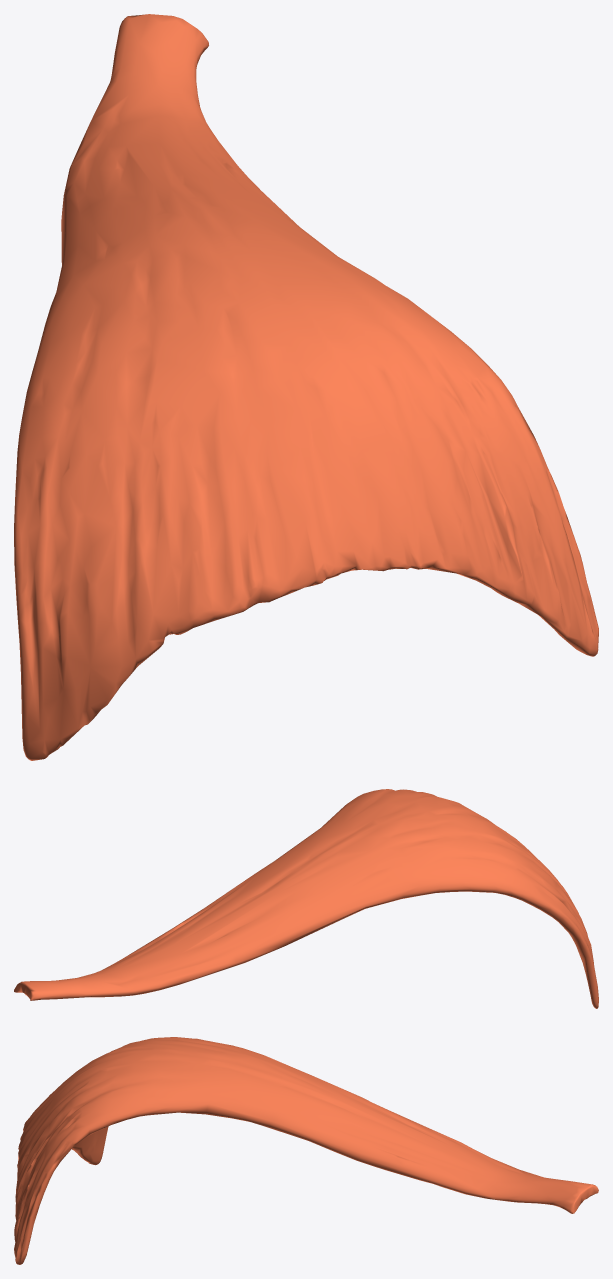
Rendered from Levator_palpebrae_superioris.r_grp1.011.glb.
3 renders of one model, top to bottom at view 1: azimuth 30°, elevation 25°; view 2: azimuth 150°, elevation 25°; view 3: azimuth 270°, elevation 25°, orthographic. The views are drawn at different scales.
Visible parts, largest first — view 1: Levator_palpebrae_superioris.r_grp1.011; view 2: Levator_palpebrae_superioris.r_grp1.011; view 3: Levator_palpebrae_superioris.r_grp1.011.
Part boxes in pixels (box(x1,y1,x2,y2)): Levator_palpebrae_superioris.r_grp1.011: box(14, 14, 598, 760); Levator_palpebrae_superioris.r_grp1.011: box(14, 789, 598, 1008); Levator_palpebrae_superioris.r_grp1.011: box(14, 1037, 598, 1264).
Size of the model in its own units: 0.0301 by 0.0159 by 0.046.
